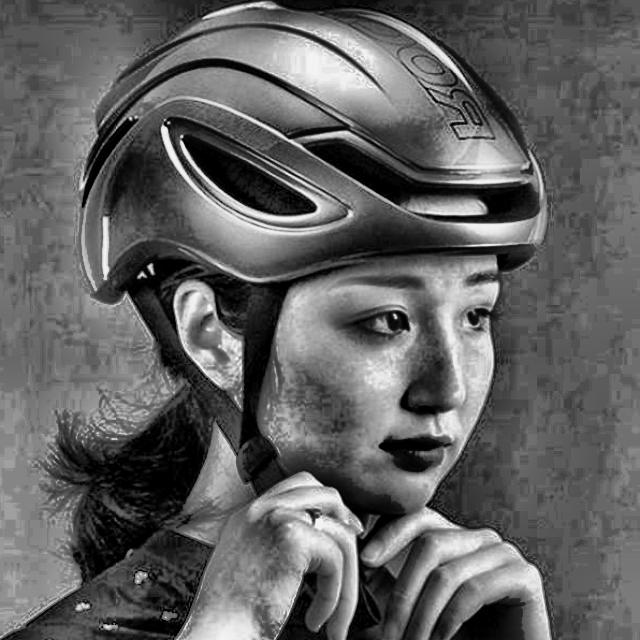Helmet: (67, 0, 556, 519)
